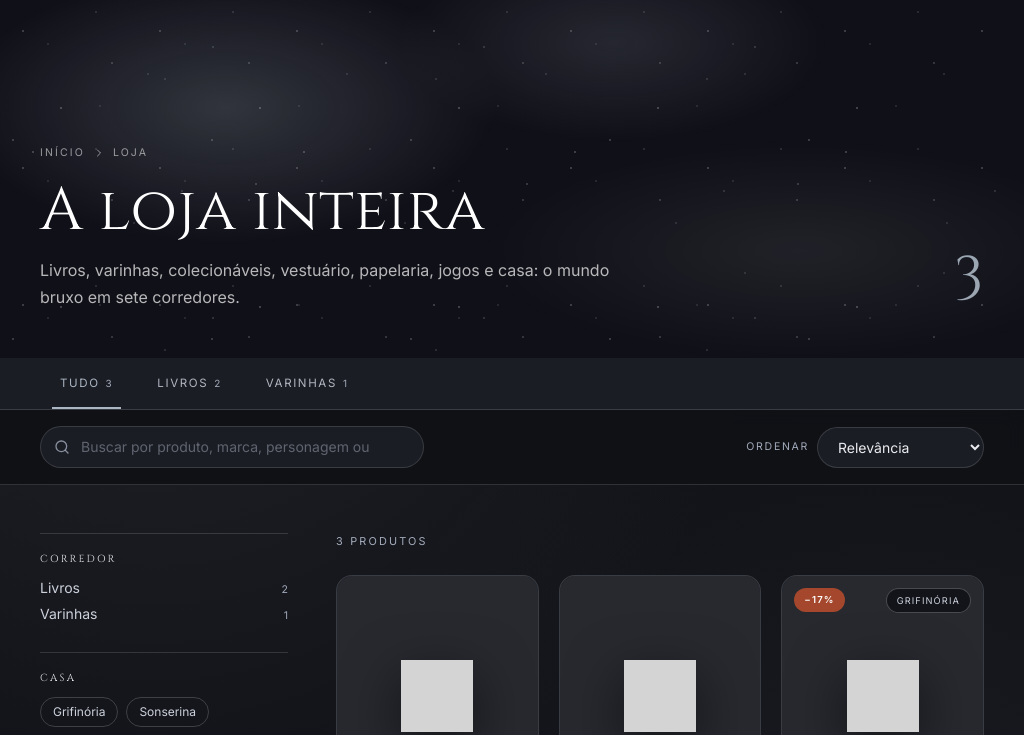
Test: Catalog page › shows a friendly message when nothing matches
This screenshot has width=1024, height=735.
Type "senhor dos anéis" into the search field named "Buscar na loja". click: [232, 447]
box: [40,426,424,468]
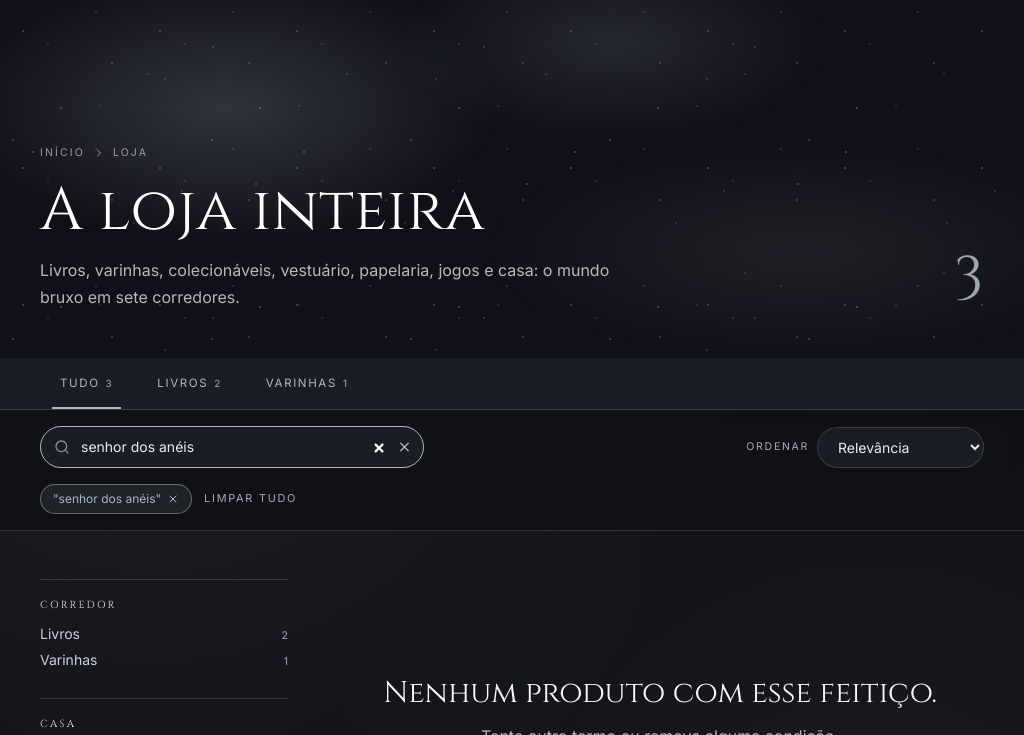
Now the text "Nenhum produto com esse feitiço." is shown, box [336,675,984,711]
